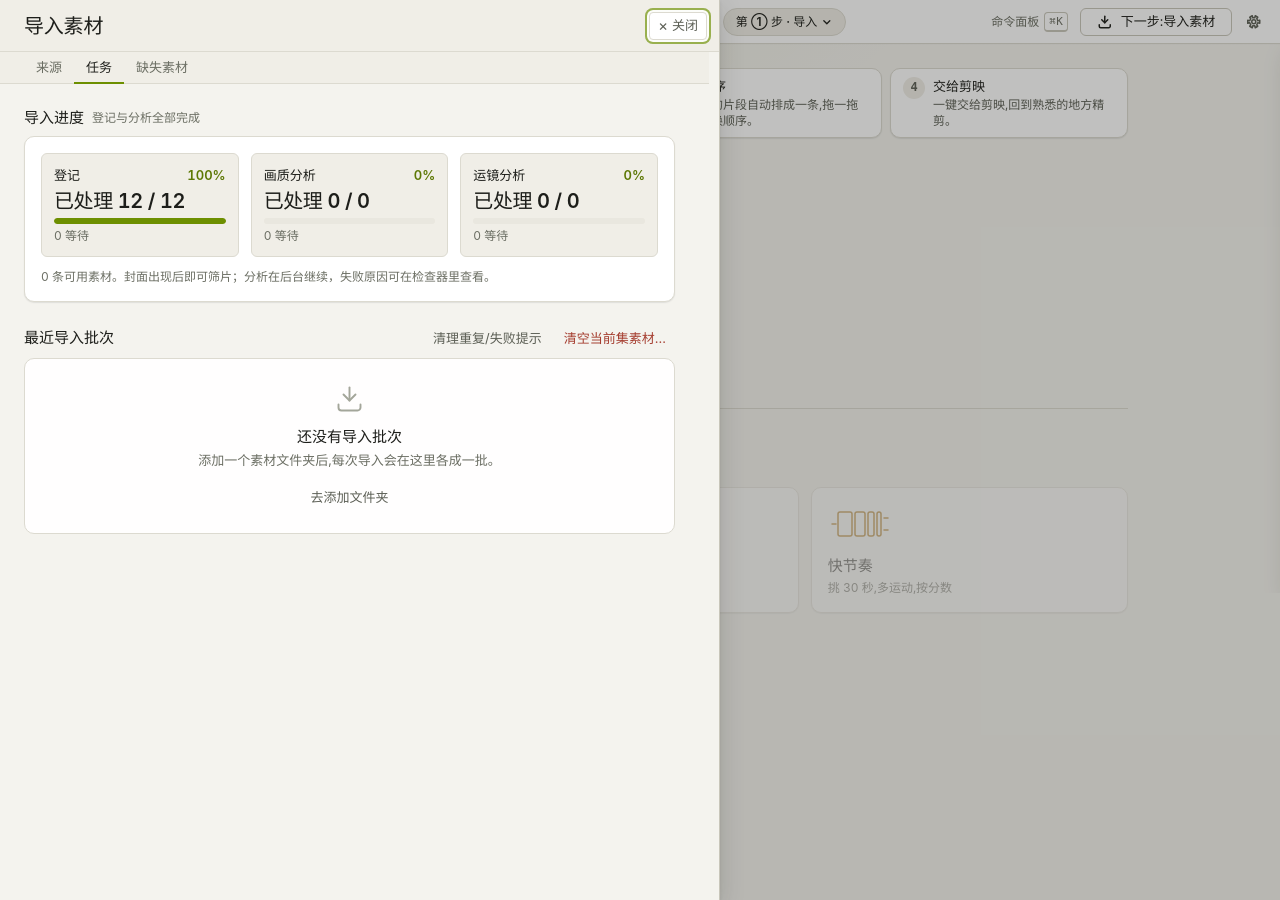
Test case: 导入抽屉:原生内容(R9 Task 5) › 任务分页:「清空当前集素材…」与「清理重复/失败提示」在批量操作行,没有「移除选中」
Check: the button "清空当前集素材…" is shown, box [555,326,675,350]
Click the button "清理重复/失败提示".
click(487, 338)  # box [424,326,551,350]
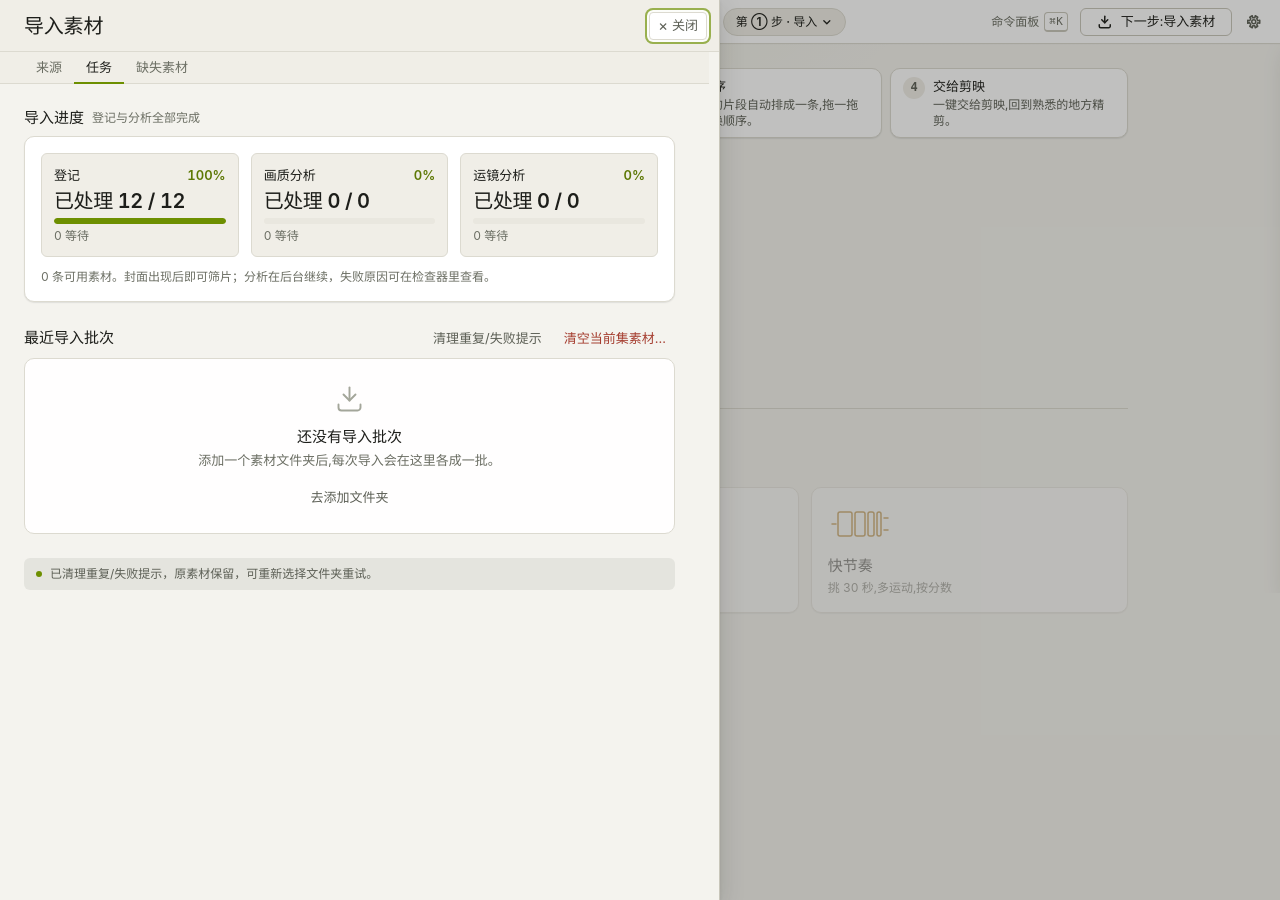
Check: the text "已清理重复/失败提示，原素材保留，可重新选择文件夹重试。" is shown, box [24,558,675,590]
